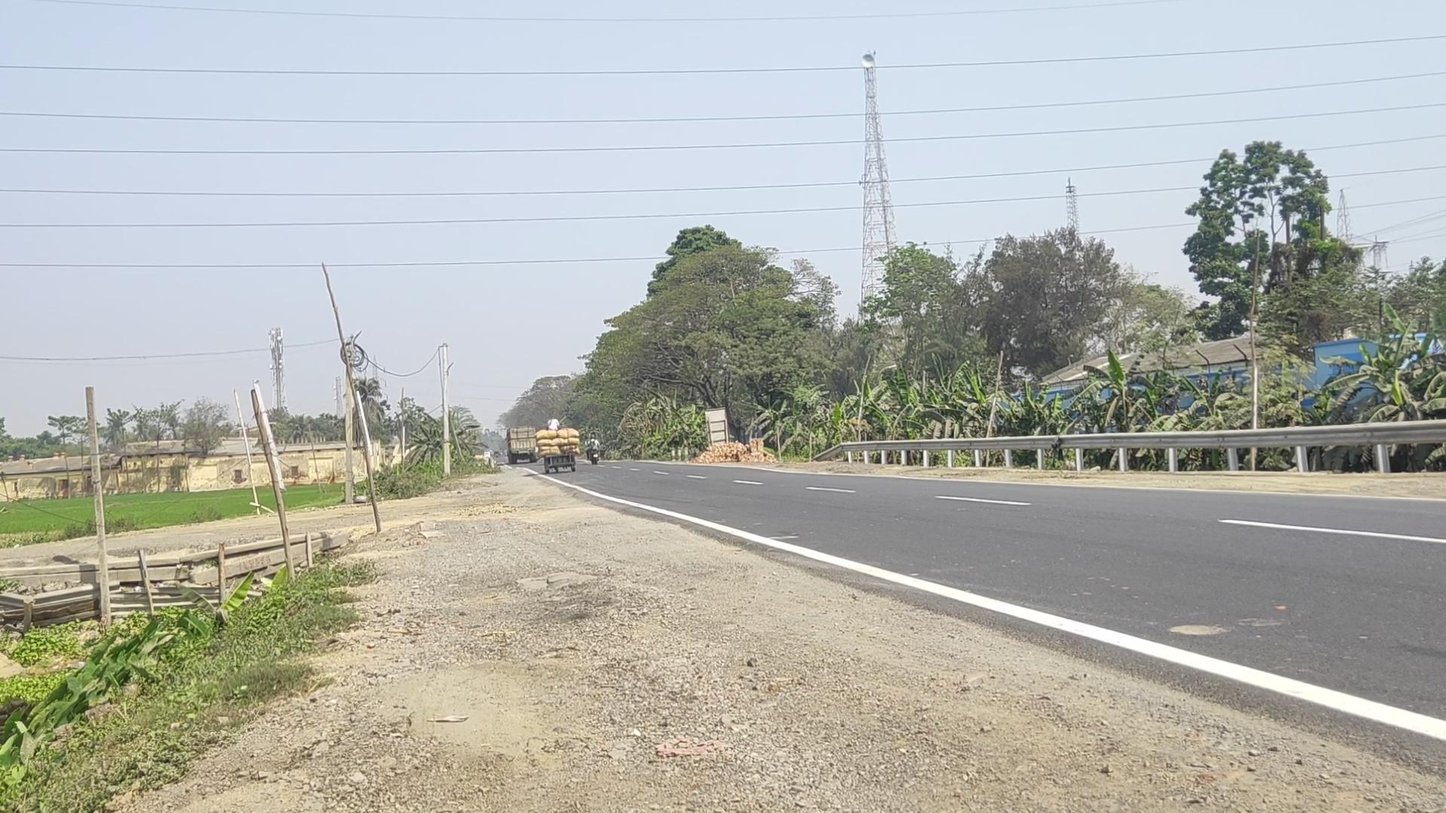bike: (584, 434, 601, 465)
truck: (506, 426, 538, 464)
